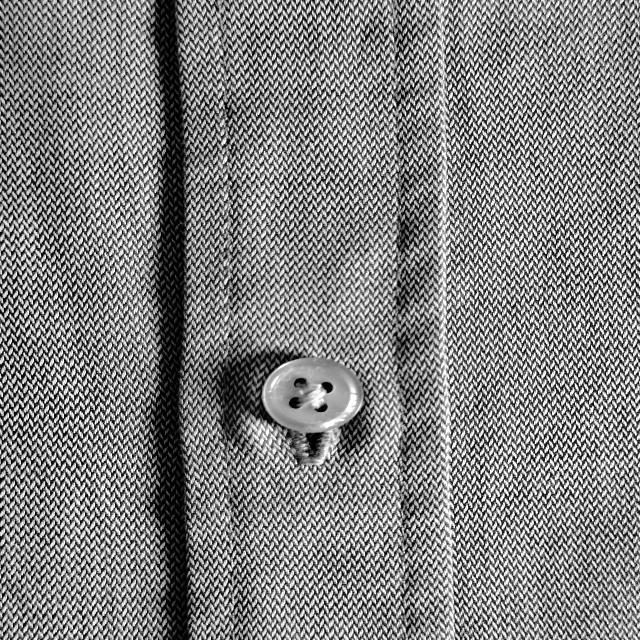Button_hike: (258, 344, 369, 475)
